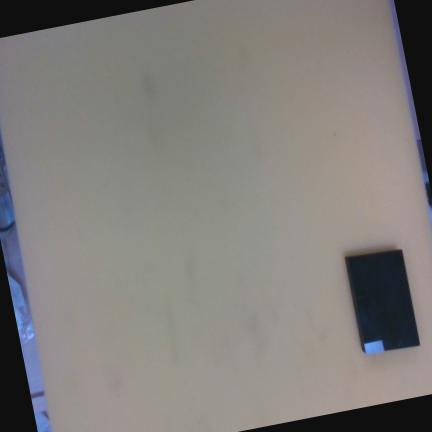tile: (348, 248, 421, 355)
